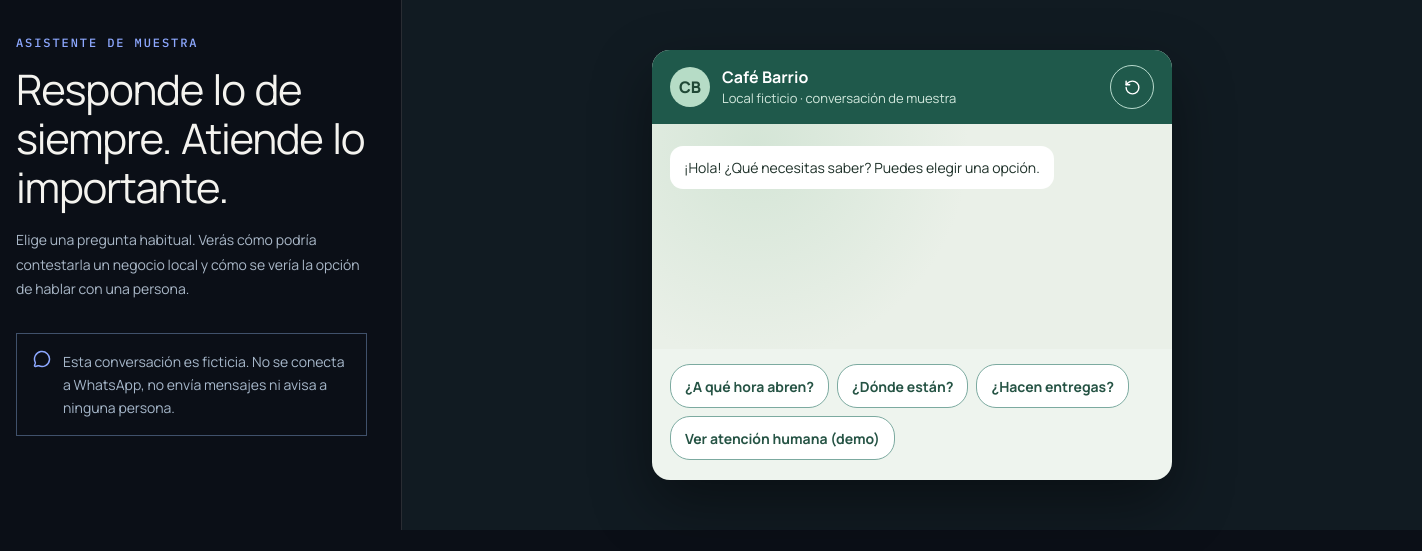
Test: demos para negocios locales › responde una duda y aclara que la atención humana es simulada
Click the button "¿A qué hora abren?": (750, 386) [670,364,829,408]
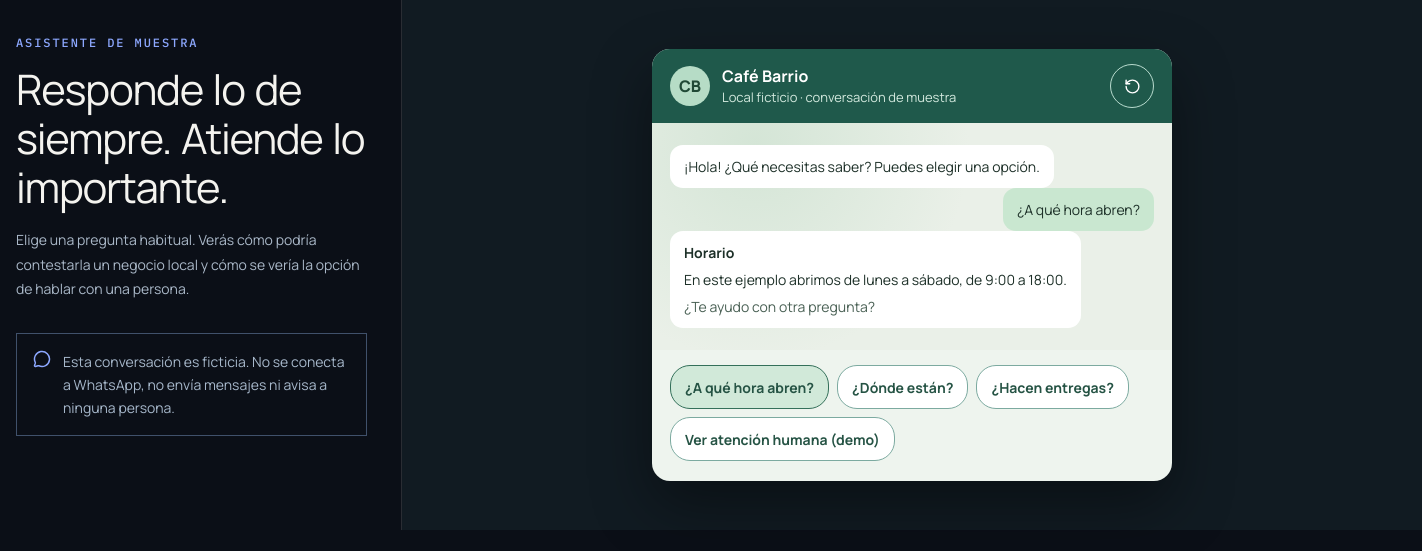
Now the text "Horario" is shown, box [684,243,734,262]
Click the button "Ver atención humana (demo)": (782, 439) [670,417,895,461]
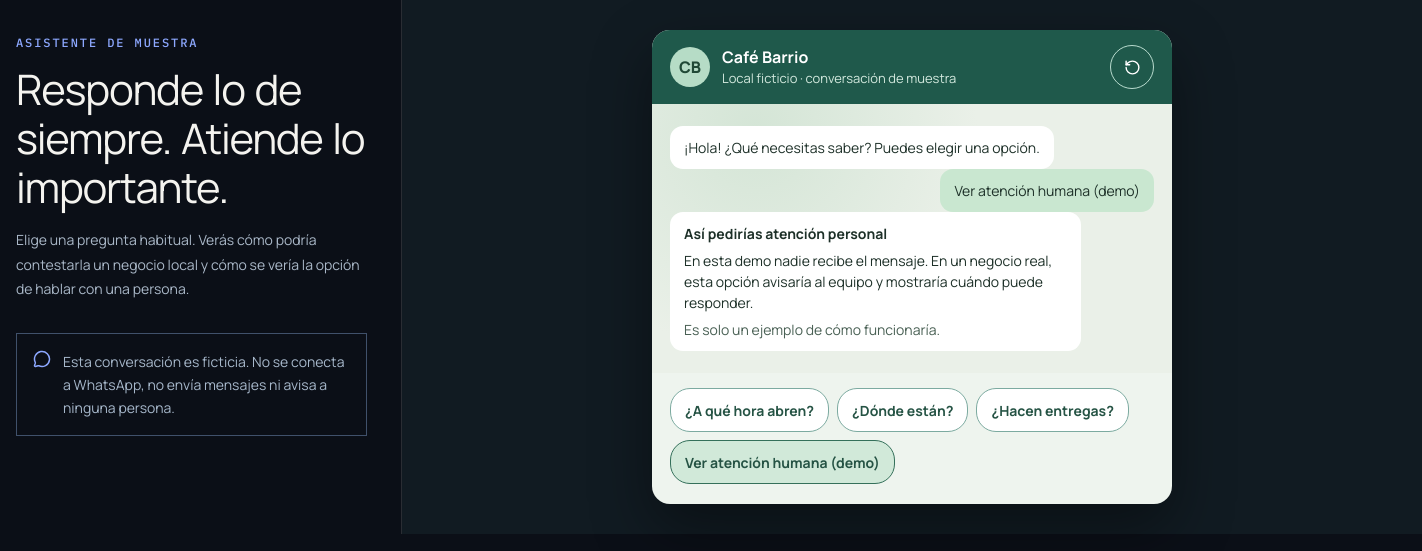
Now the text "Así pedirías atención personal" is shown, box [684,224,887,243]
Now the text "En esta demo nadie recibe el mensaje" is shown, box [684,251,1052,312]
